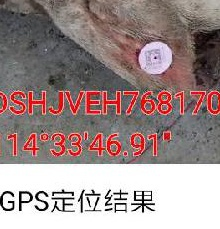text: (131, 32, 179, 84)
